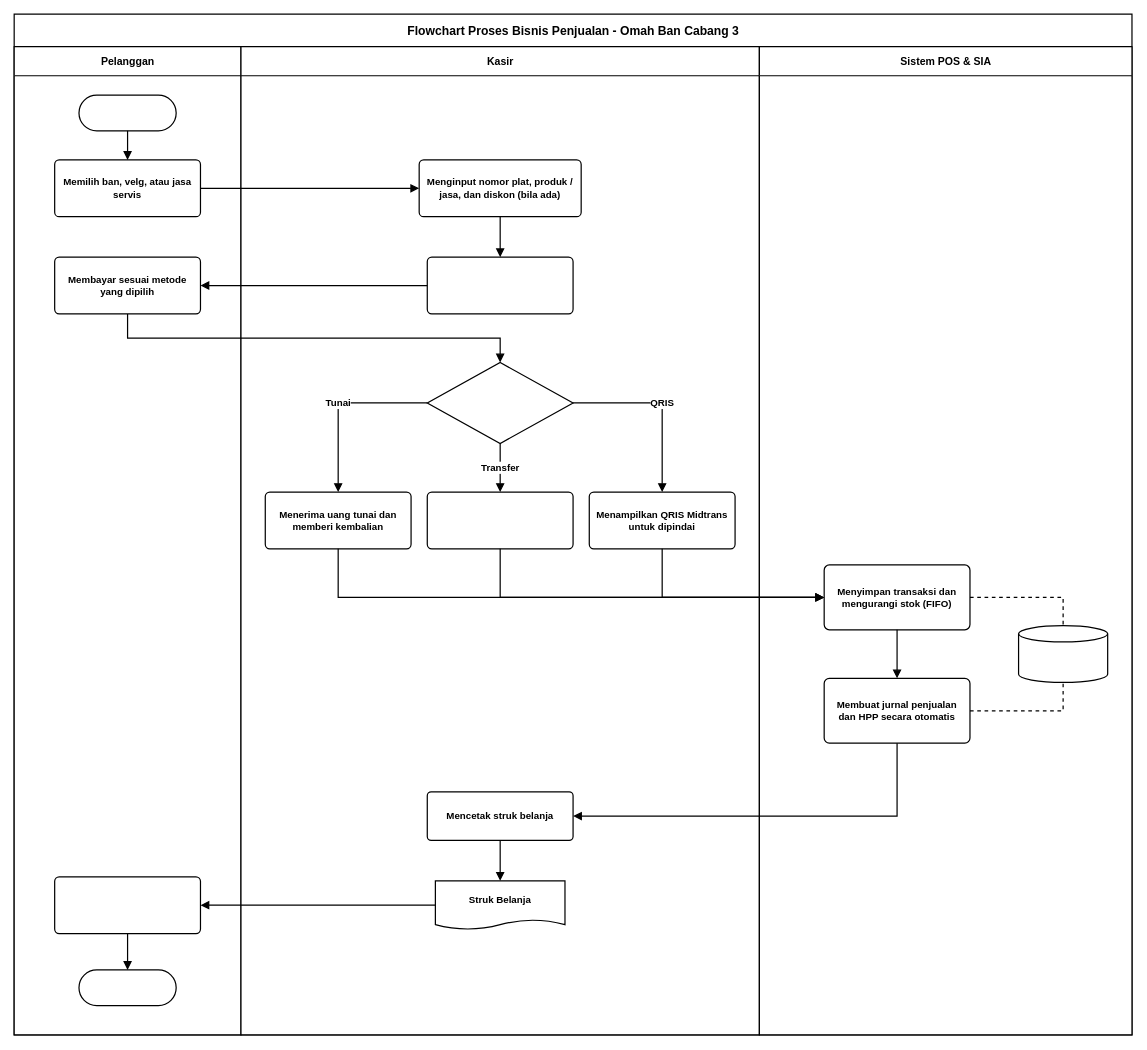
Some shapes in this 1147 by 1050 pixel diagram are drawn without their labels. The shapes that lost their labels are listed below. From the top down, each one's centre as x and y in pixels, then its label:
(x=127, y=112): Mulai
(x=499, y=285): Menginformasikan total tagihan
(x=499, y=403): Metode pembayaran?
(x=499, y=520): Memeriksa bukti transfer bank
(x=1063, y=654): Database Penjualan & Persediaan
(x=127, y=905): Menerima struk dan barang / jasa
(x=127, y=987): Selesai
